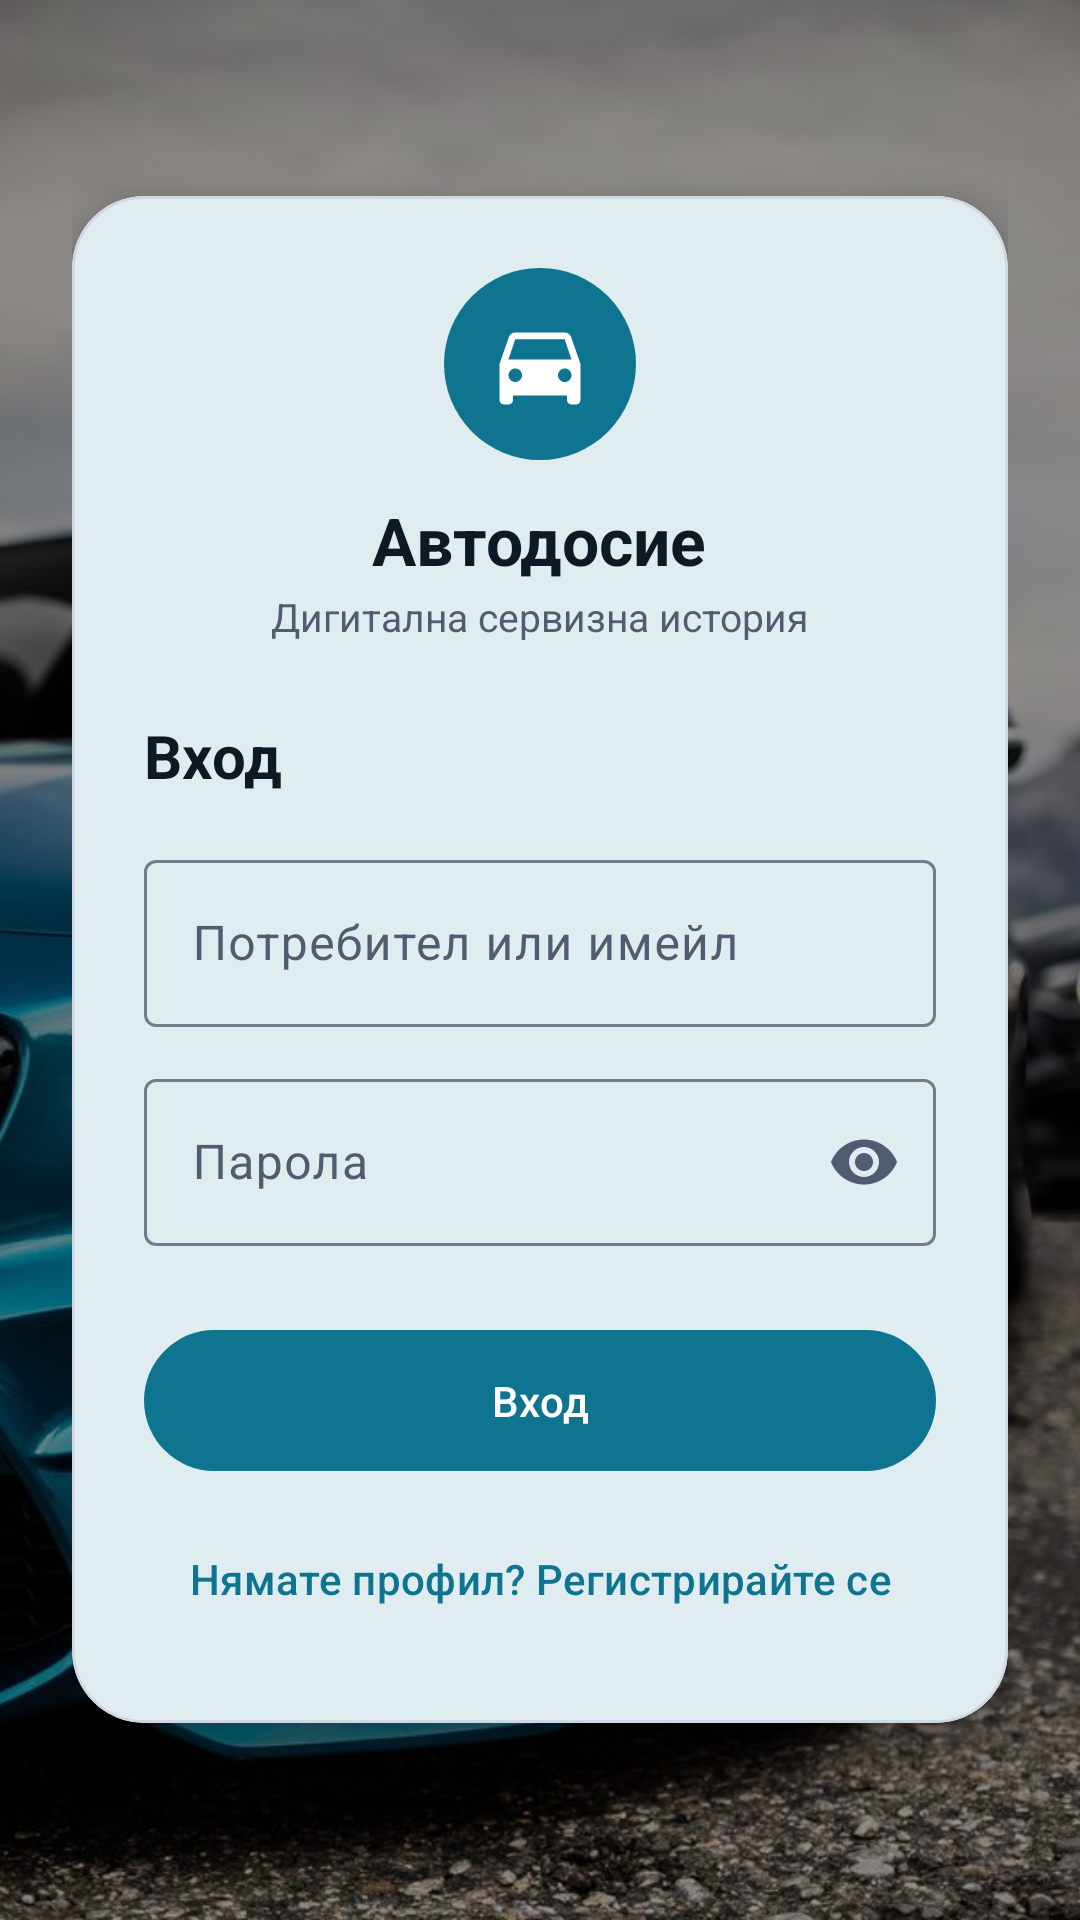

Icon bounding boxes for this 1080w x 1920h phone screenshot, format [x1=x1, y1=y1, x2=x2, y2=y2]:
car: [x1=444, y1=268, x2=636, y2=460]
